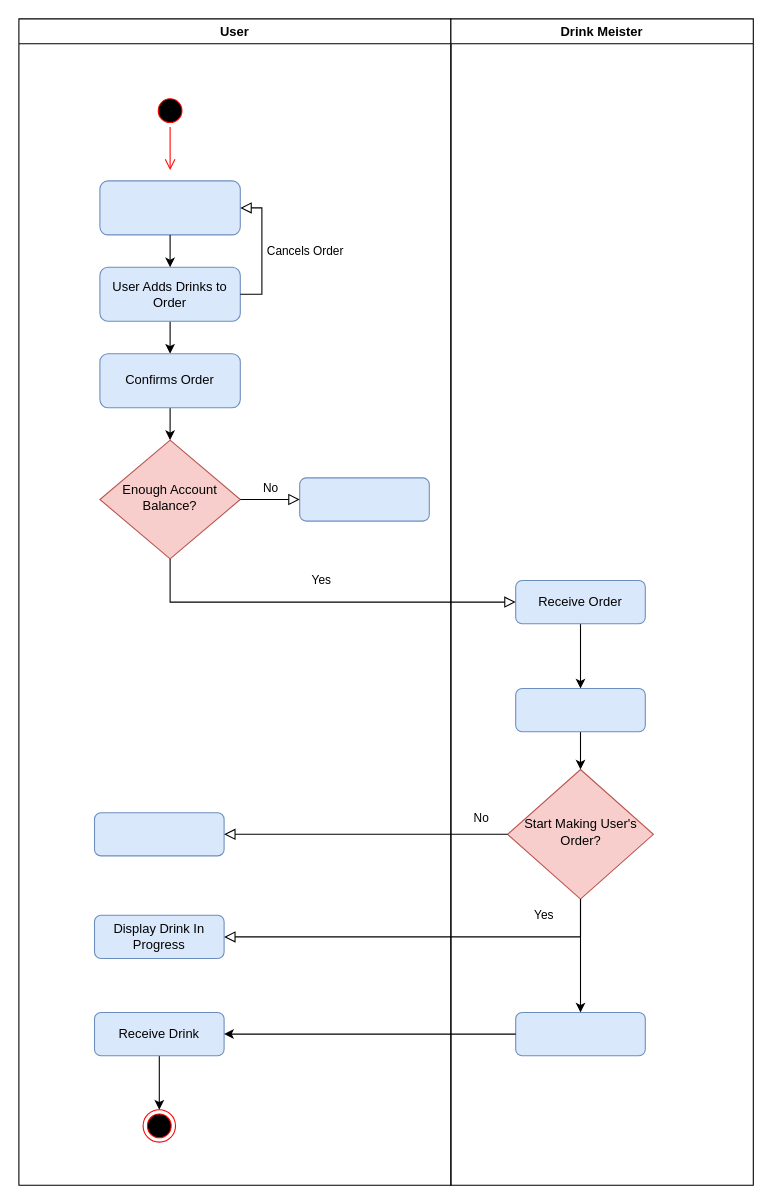
Some shapes in this 772 by 1204 pixel diagram are drawn without their labels. The shapes that lost their labels are listed below. From the top down, each one's box as (x1, y1, x2, y2) in pixels, then its label:
(99, 180, 240, 235): View Order Drinks Page
(299, 477, 429, 521): Display Error
(515, 687, 645, 732): Choose Order to Make
(93, 812, 224, 856): User Waits
(515, 1011, 645, 1056): Complete/Deliver Drink
